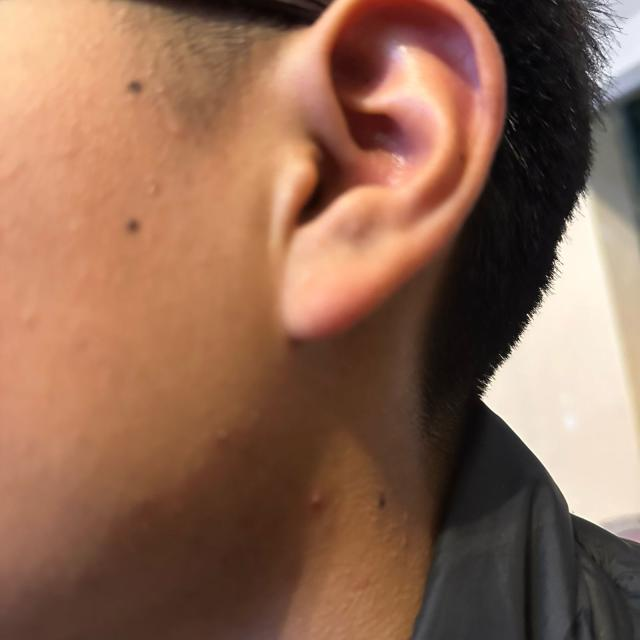ear: (282, 0, 506, 336)
